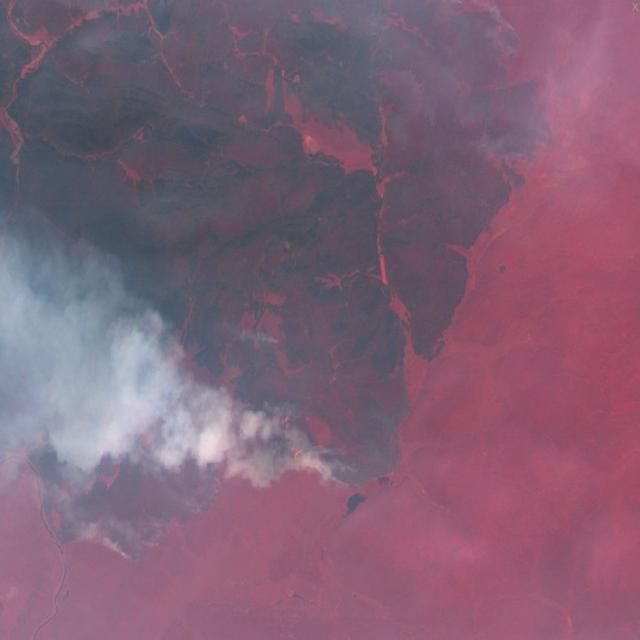fire: (103, 322, 380, 574), (448, 0, 562, 170)
